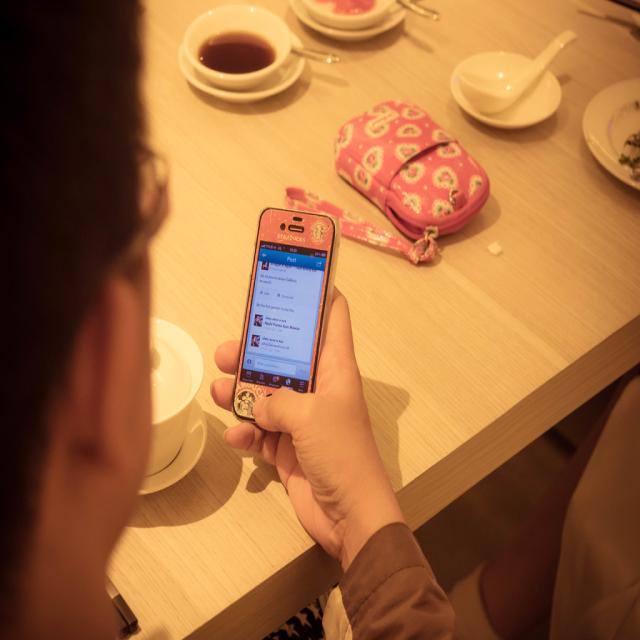Mobile-phone: (229, 204, 346, 418)
